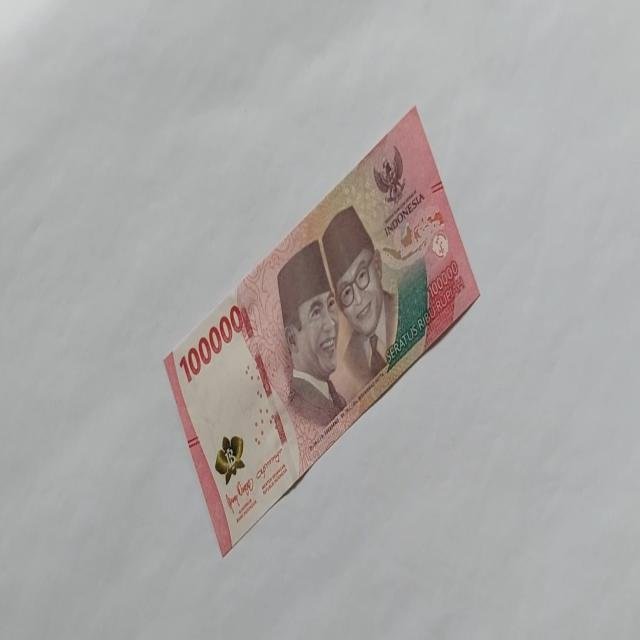seratus ribu rupiah: (162, 104, 480, 556)
